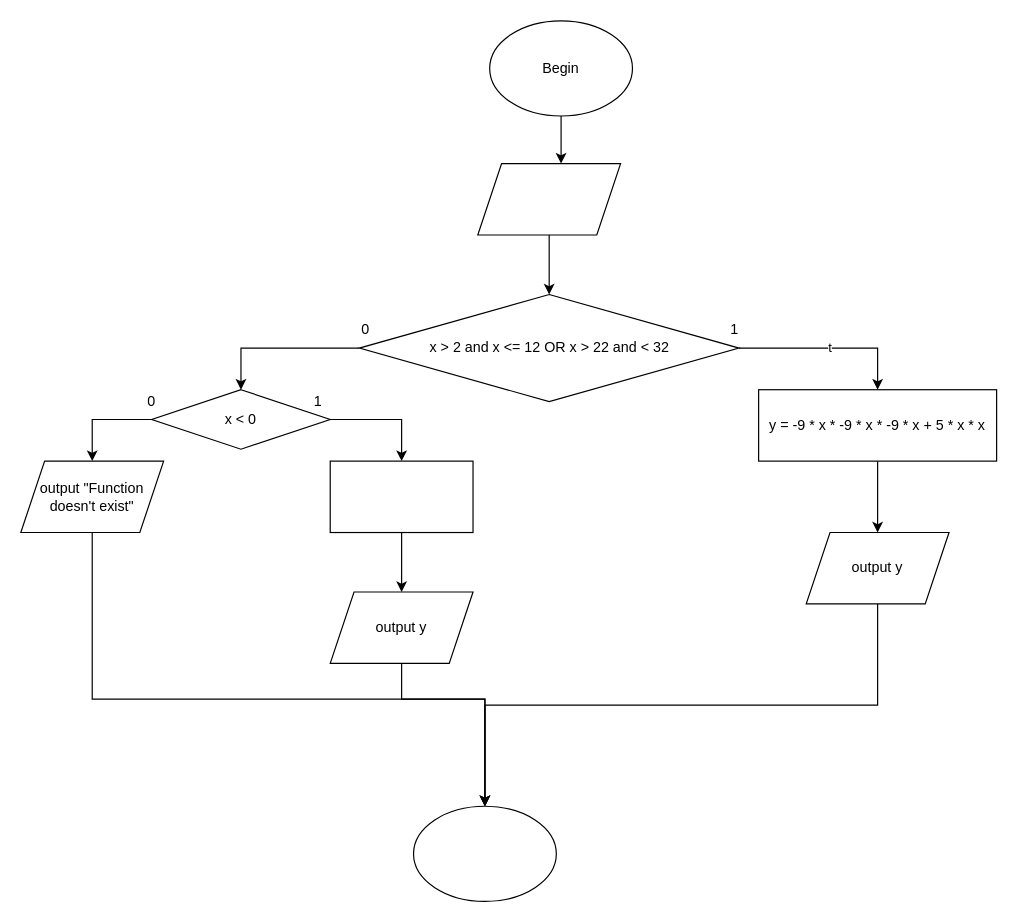
The diagram is 1017 pixels wide and 922 high, and some of its shapes have lost their labels. Each missing label, with the centre of its shape:
"End" belongs at point 484,853.
"Input x" belongs at point 549,198.
"y = -x * x -12" belongs at point 401,496.
